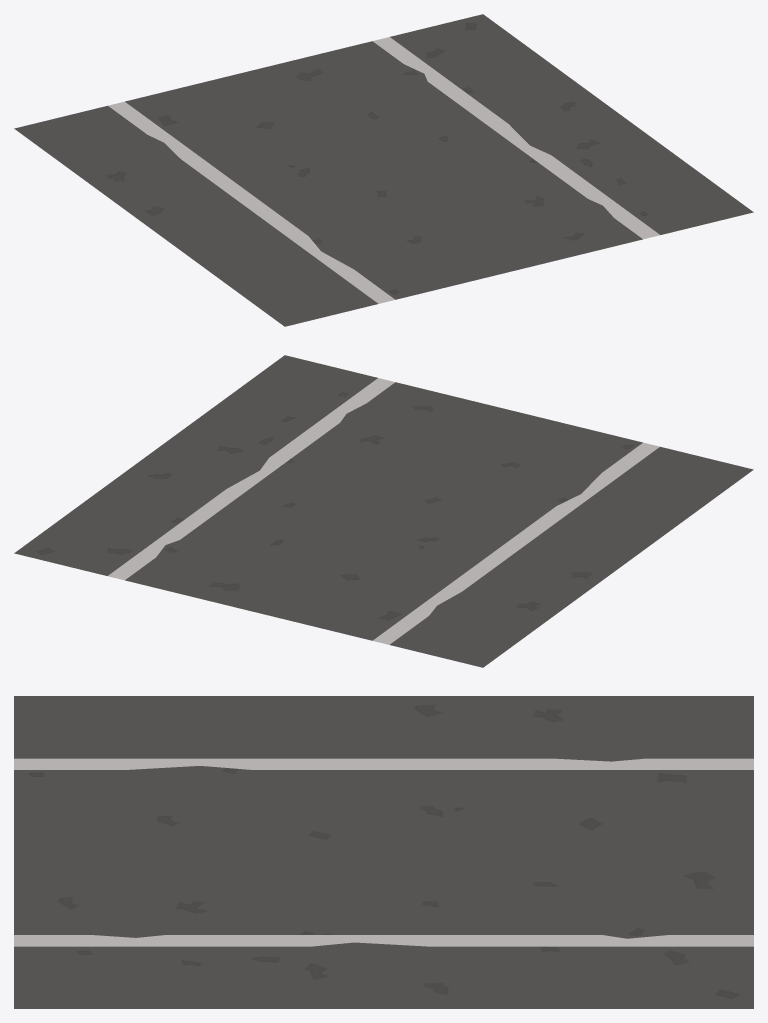
Rendered from prop_road_tile_01a.fbx.
The picture shows the model from 3 angles, top to bottom: view 1: azimuth 30°, elevation 25°; view 2: azimuth 150°, elevation 25°; view 3: azimuth 270°, elevation 25°; orthographic projection. The views are drawn at different scales.
Parts seen in each view (by area): view 1: SM_Env_Ground_Lines_01; view 2: SM_Env_Ground_Lines_01; view 3: SM_Env_Ground_Lines_01.
Part boxes in pixels (<box>): SM_Env_Ground_Lines_01: <box>14,14,753,326</box>; SM_Env_Ground_Lines_01: <box>14,355,753,667</box>; SM_Env_Ground_Lines_01: <box>14,696,753,1008</box>.
Bounding box in the file's own units: 1000 × 1000 × 7.55e-05.
Materials: 1 (1 with a texture image).
